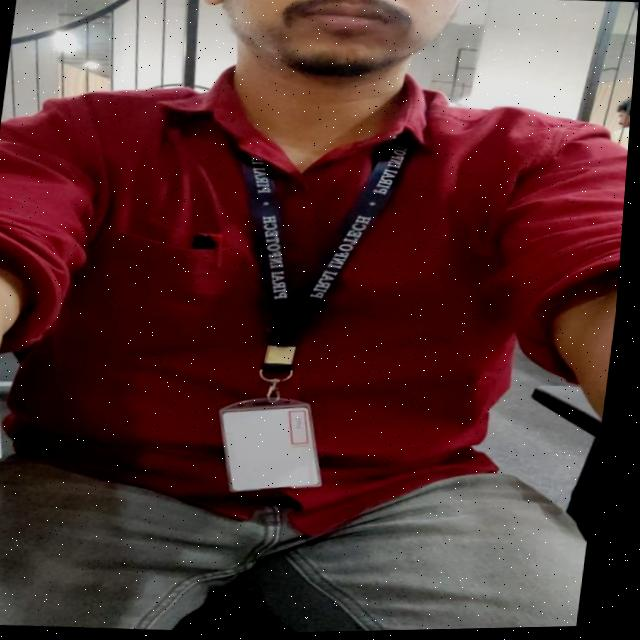id_card: (180, 127, 415, 535)
